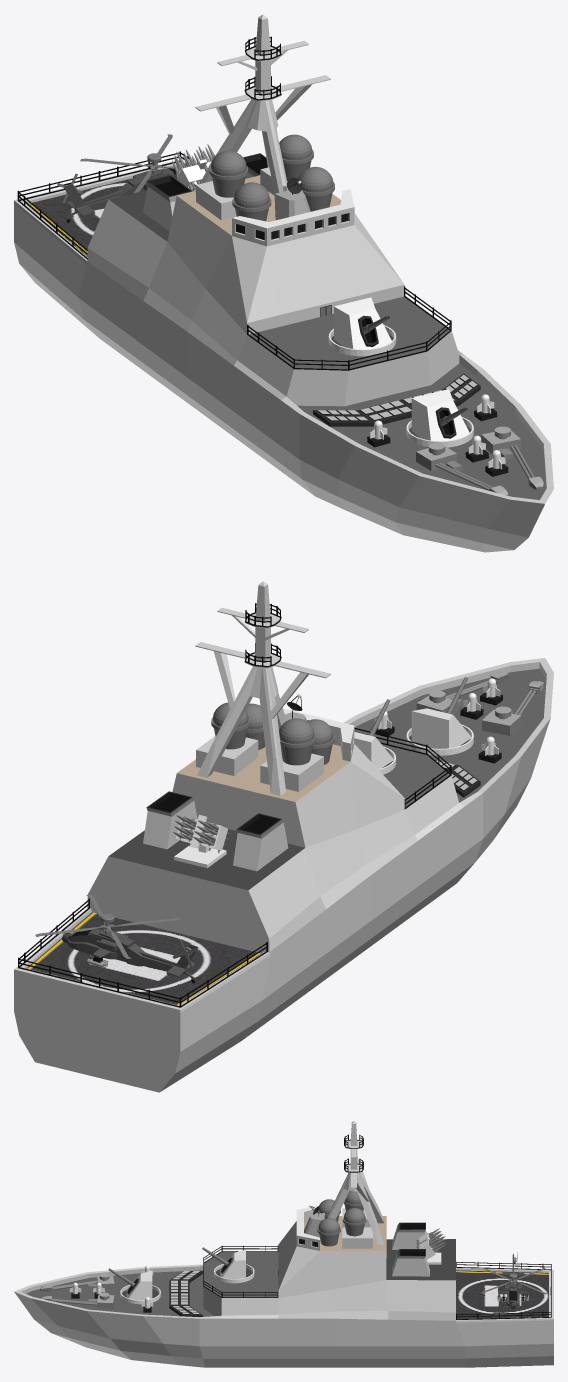
The model's file is Destroyer.fbx.
3 views of the same model, one above another, from view 1: azimuth 30°, elevation 25°; view 2: azimuth 150°, elevation 25°; view 3: azimuth 270°, elevation 25° (orthographic). The views are drawn at different scales.
Parts seen in each view (by area): view 1: Ship, Gun.001, Gun.002, MissileFlaps, Railing, Ship.004, Railing.002, HelicopterBody.002, Railing2, HelicopterBlades.002, Missile4.002; view 2: Ship, HelicopterBody.002, Gun.002, Railing.002, Ship.004, MissileLauncher, Gun.001, HelicopterBlades.002, Railing, Missile4.002, Railing2, MissileFlaps; view 3: Ship, MissileFlaps, Gun.001, Gun.002, Railing.002, Railing, HelicopterBody.002, Ship.004, MissileLauncher, HelicopterBlades.002, Missile4.002.
Part boxes in pixels (box(x1,y1,x2,y2)): Ship: box(14, 14, 553, 552); Gun.001: box(328, 297, 396, 356); Gun.002: box(406, 389, 473, 447); MissileFlaps: box(313, 373, 480, 426); Railing: box(247, 286, 451, 370); Ship.004: box(367, 394, 508, 476); Railing.002: box(17, 151, 197, 259); HelicopterBody.002: box(63, 168, 177, 219); Railing2: box(244, 36, 281, 100); HelicopterBlades.002: box(80, 134, 177, 192); Missile4.002: box(172, 144, 215, 191); Ship: box(14, 581, 553, 1092); HelicopterBody.002: box(62, 929, 198, 979); Gun.002: box(406, 708, 473, 755); Railing.002: box(18, 898, 267, 1007); Ship.004: box(371, 678, 502, 763); MissileLauncher: box(174, 814, 227, 868); Gun.001: box(354, 732, 396, 774); HelicopterBlades.002: box(35, 894, 179, 958); Railing: box(354, 728, 451, 809); Missile4.002: box(173, 815, 229, 853); Railing2: box(244, 603, 281, 667); MissileFlaps: box(434, 759, 480, 797); Ship: box(14, 1121, 553, 1367); MissileFlaps: box(169, 1271, 202, 1316); Gun.001: box(214, 1249, 254, 1283); Gun.002: box(120, 1270, 160, 1304); Railing.002: box(456, 1261, 551, 1319); Railing: box(203, 1245, 278, 1297); HelicopterBody.002: box(498, 1253, 528, 1308); Ship.004: box(69, 1265, 153, 1312); MissileLauncher: box(419, 1233, 441, 1264); HelicopterBlades.002: box(481, 1267, 547, 1294); Missile4.002: box(416, 1228, 445, 1252).
Size of the model in its own units: 227 by 441 by 957.
Materials: 3 (3 with a texture image).
